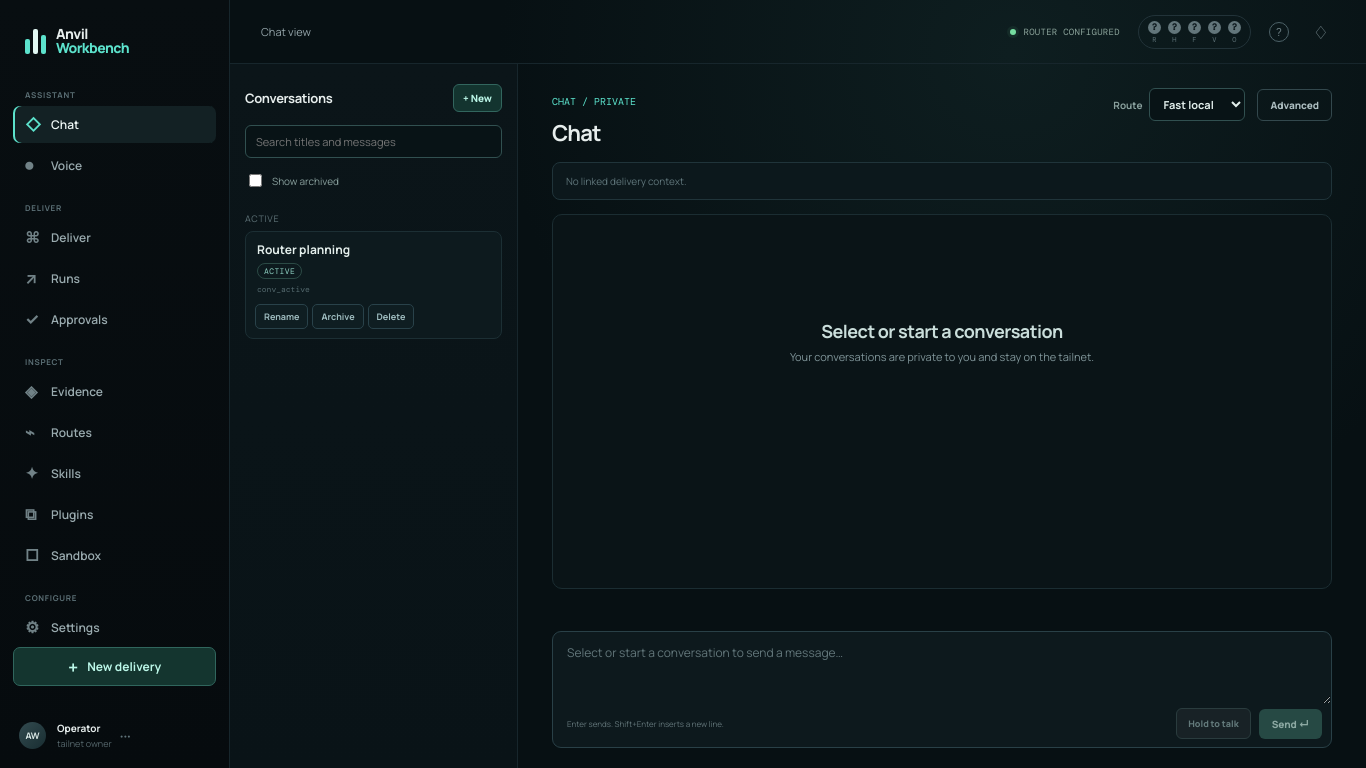
Criterion 1 — a new and a returning actor complete the wired chat loop › returning actor: streamed deltas render progressively through the real reducer
Expected: the text "Router planning" is shown, x1=257 y1=241 x2=350 y2=258
Click the button with aria-label "Open Router planning" at (374, 268), box x1=246 y1=232 x2=501 y2=304
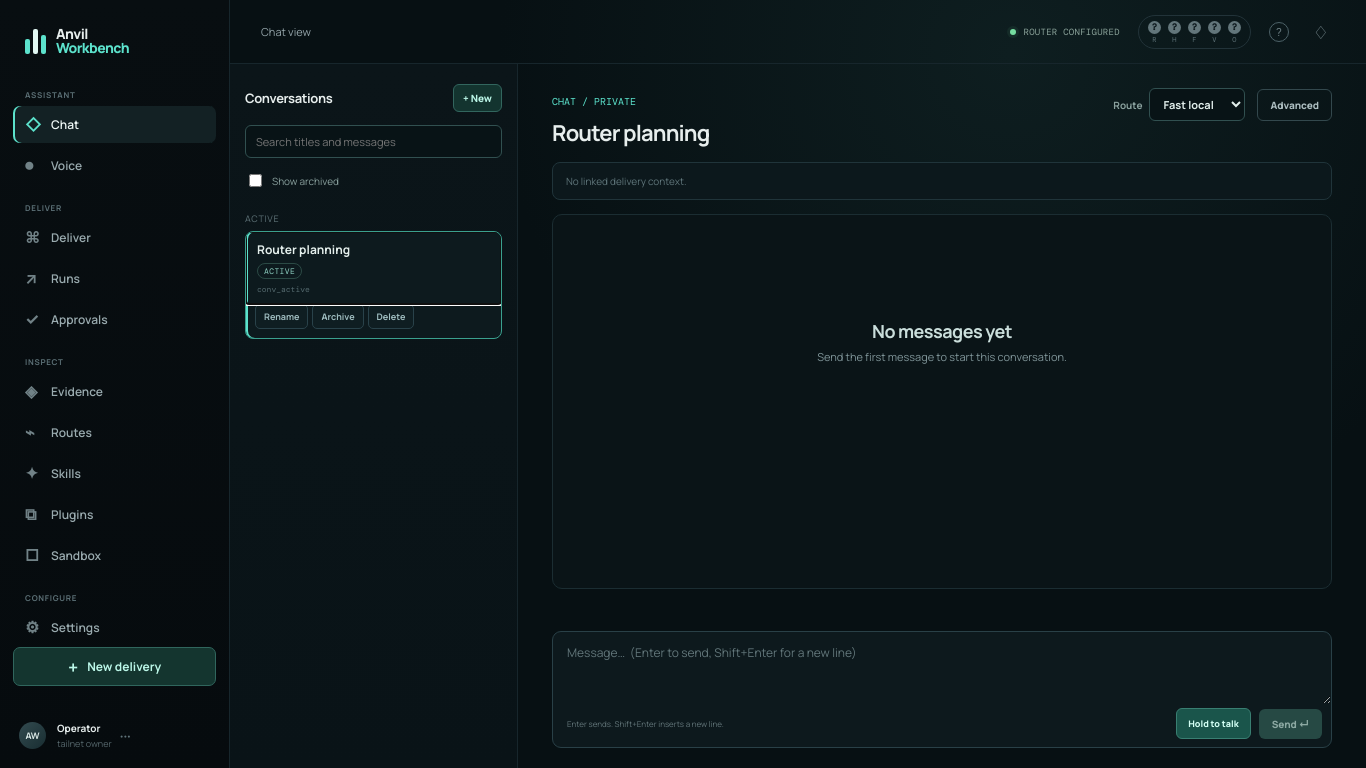
Expected: the element named "Empty conversation" is shown, x1=817 y1=318 x2=1067 y2=364
Type "hello there" into the text box named "Message composer" at (942, 668), box x1=553 y1=632 x2=1331 y2=704
Then press Enter
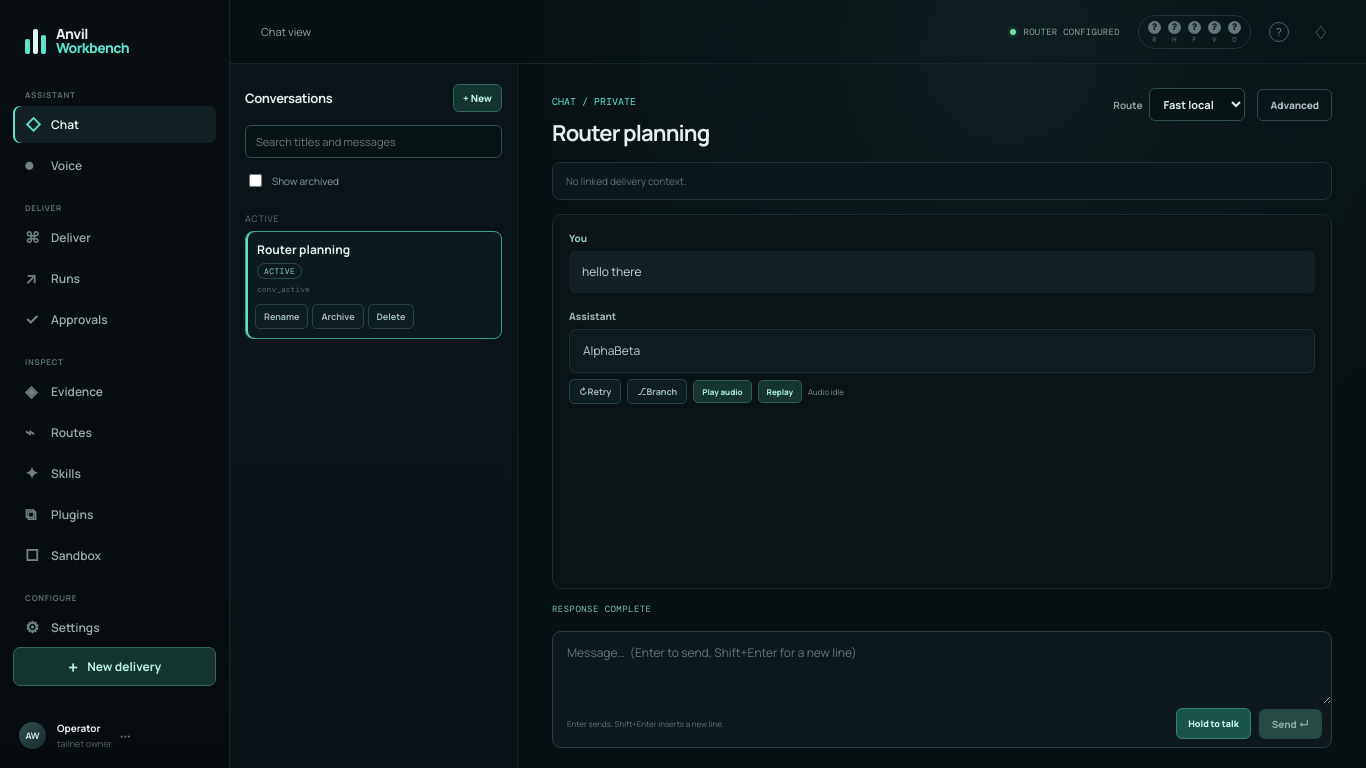
Expected: the text "Alpha" is shown, x1=583 y1=342 x2=640 y2=359
Expected: the number of lists named "Transcript" is 1, x1=569 y1=231 x2=1315 y2=404
Expected: the text "AlphaBeta" is shown, x1=569 y1=329 x2=1315 y2=373
